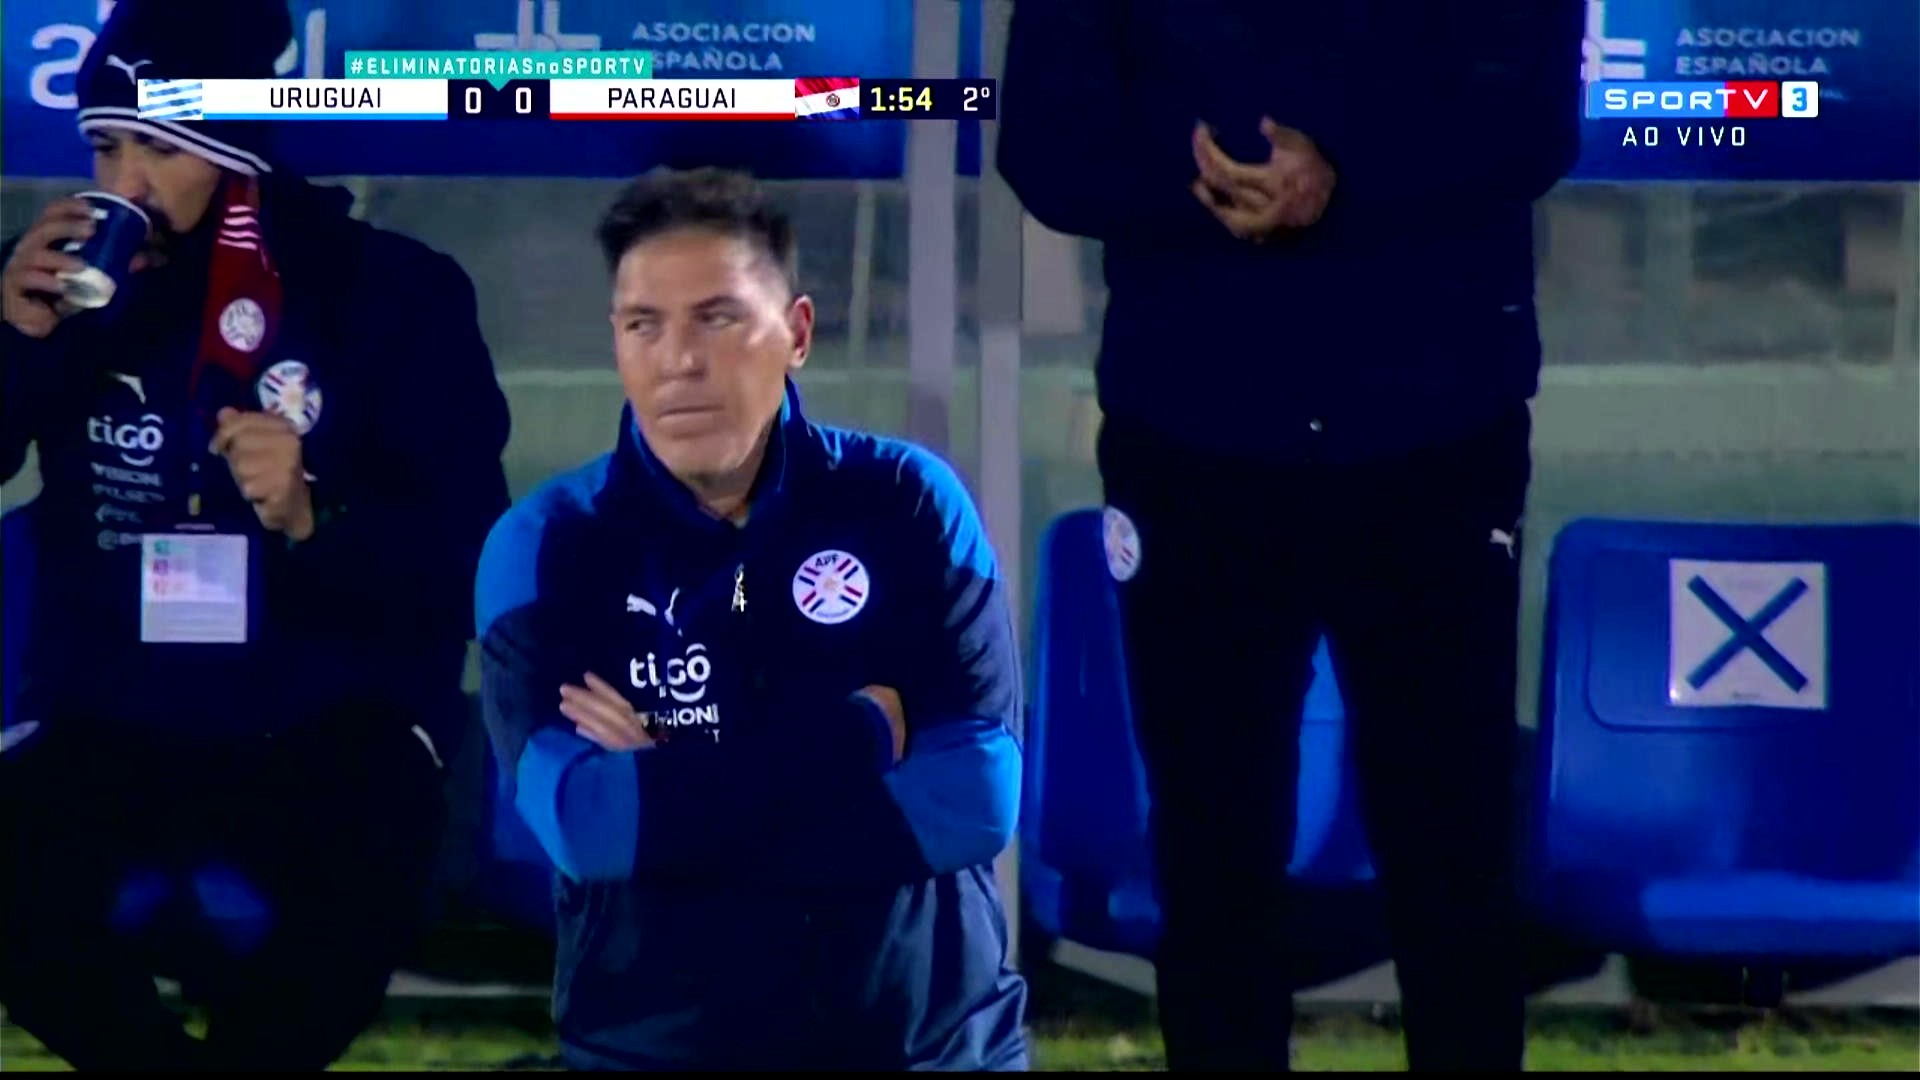SporTV3: (1586, 80, 1818, 119)
